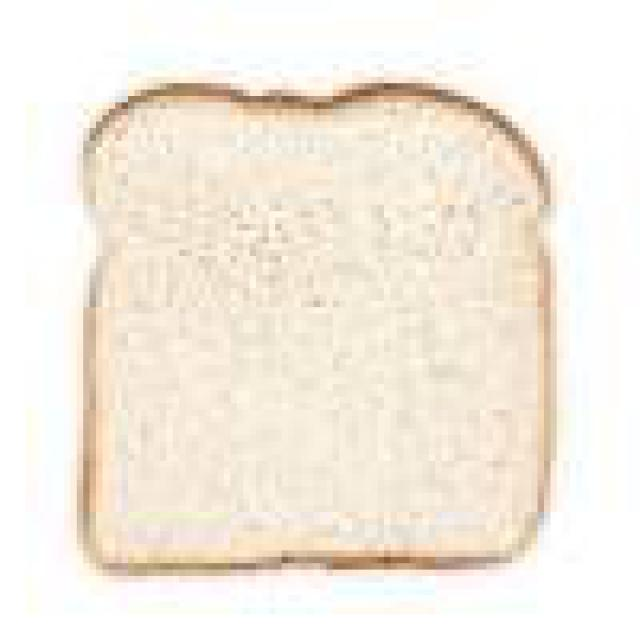Bread: (74, 80, 548, 570)
